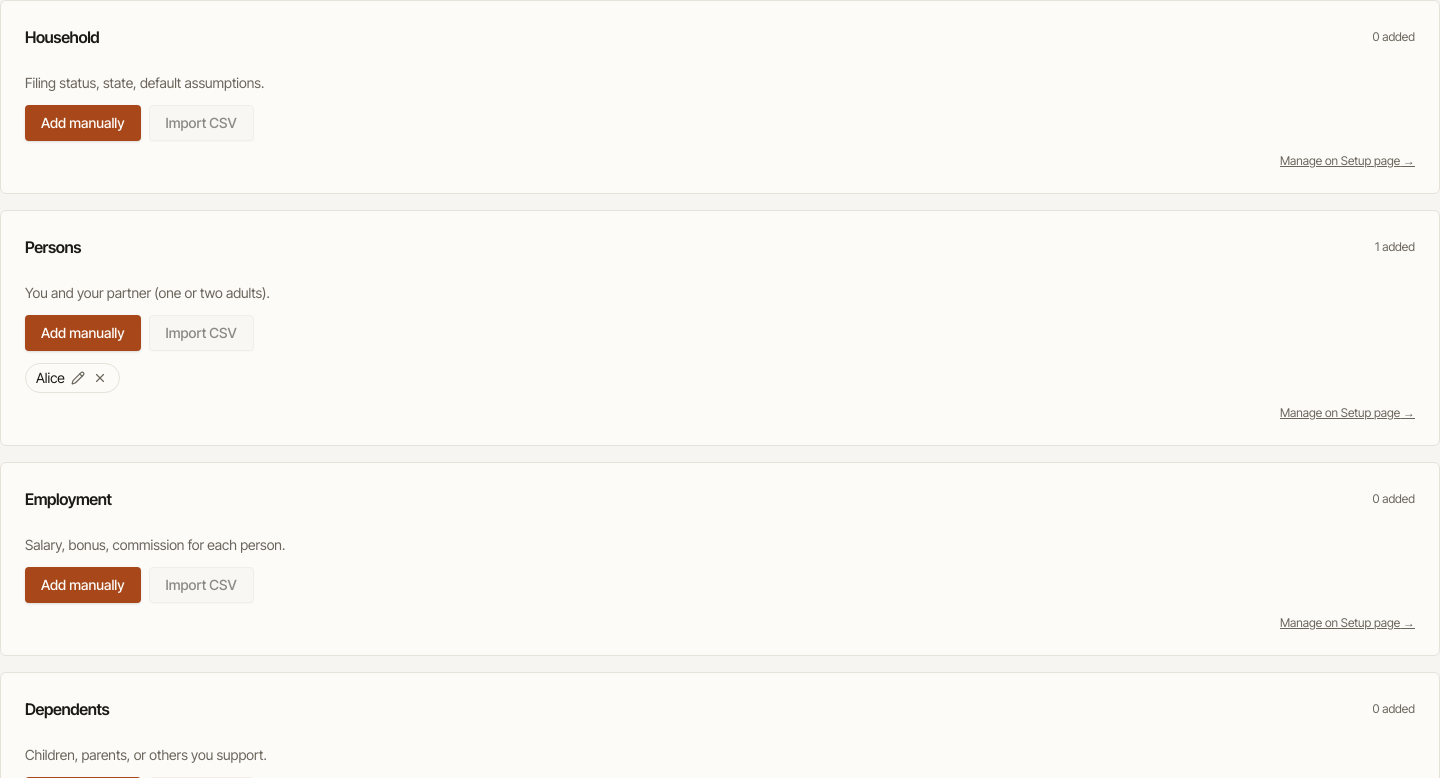
Test: Section1_WhoYouAre › T23: Edit on a chip opens the person dialog pre-filled with the name
Click the button named "edit alice" at (78, 378), box [69,369,87,387]
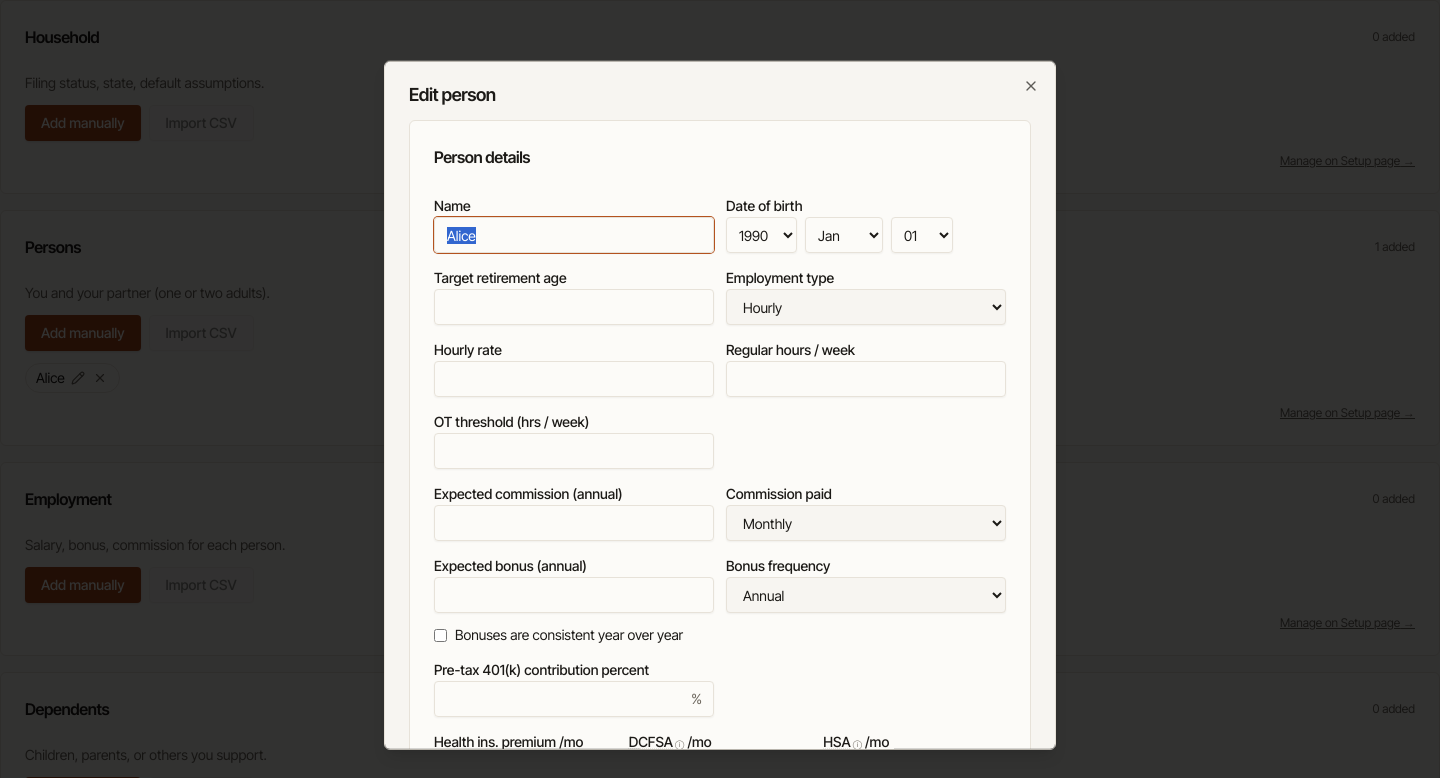
Result: the heading "Edit person" is shown at [409,84,496,105]
Result: the field labelled "Name" holds "Alice" at [434,217,714,253]
